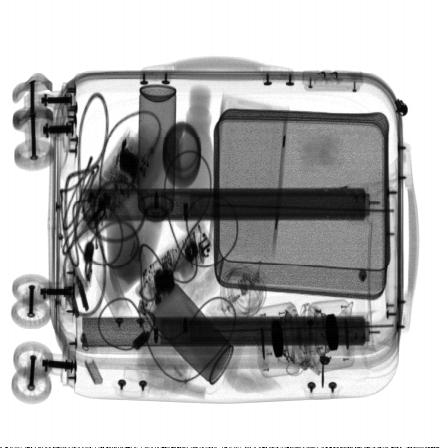Sprayer: (138, 85, 176, 250)
